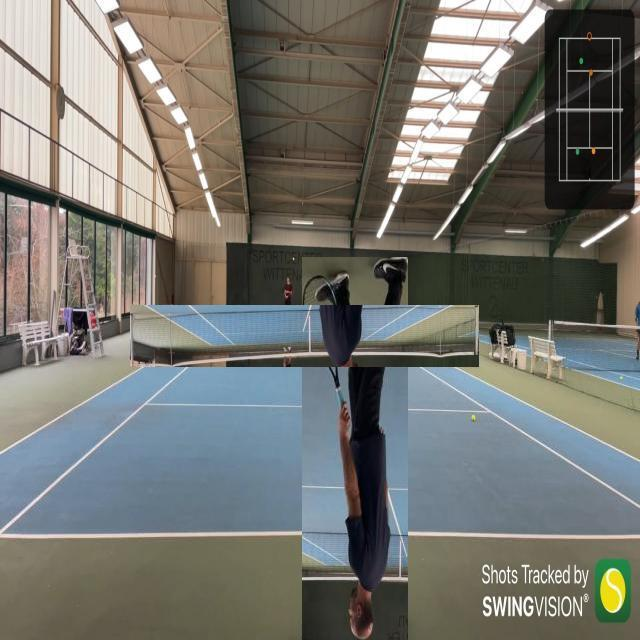court: (0, 326, 640, 542)
net: (130, 305, 479, 367)
player: (302, 257, 408, 640)
